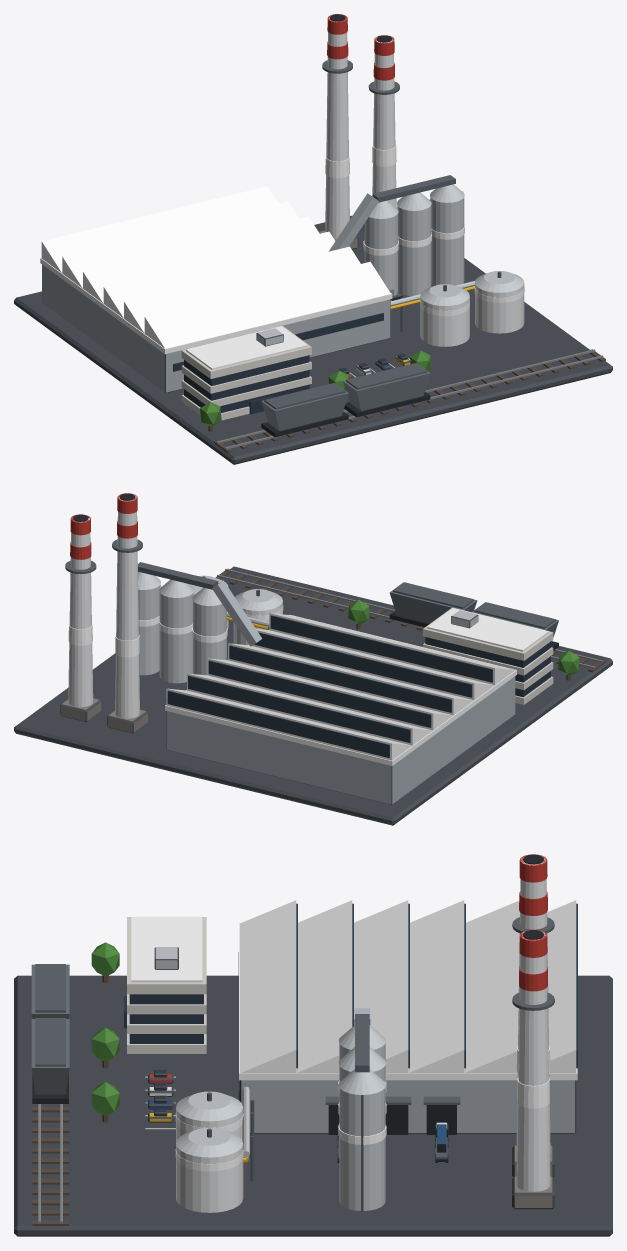
The model's file is factory.glb.
3 renders of one model, top to bottom at view 1: azimuth 30°, elevation 25°; view 2: azimuth 150°, elevation 25°; view 3: azimuth 270°, elevation 25°, orthographic. The views are drawn at different scales.
Visible parts, largest first — view 1: Factory; view 2: Factory; view 3: Factory.
Part boxes in pixels (x1,y1,x2,y2): Factory: (14,14,612,464); Factory: (14,493,612,825); Factory: (14,854,612,1236).
Bounding box in the file's own units: 0.98 × 0.582 × 0.98.
